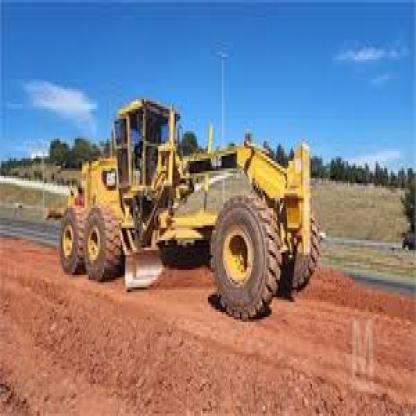bull_dozer/loader/grader: (53, 89, 320, 322)
